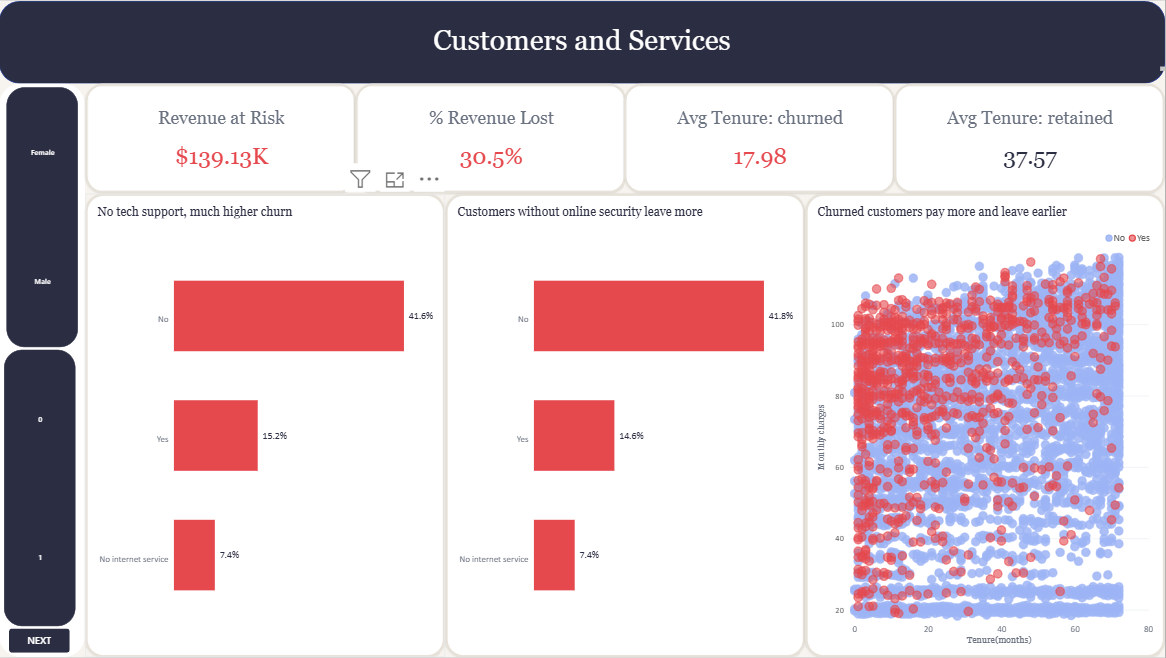

Layout of this report page (visuals, bound fields, positions):
{"tool":"powerbi","page":{"name":"Customers and Services","canvas":[1920,1080],"ordinal":2},"visuals":[{"type":"shape","box":[0,0,1920.4,135.8],"z":0},{"type":"textbox","title":"Customers and Services","box":[0,39.1,1920,76.2],"z":1000},{"type":"shape","box":[0,135.2,142,944.8],"z":2000},{"type":"slicer","fields":{"Values":["telco_churn.gender"]},"box":[12.3,142,117.3,428.1],"z":3000},{"type":"slicer","fields":{"Values":["telco_churn.SeniorCitizen"]},"box":[8.2,574.3,117.3,454.9],"z":4000},{"type":"actionButton","box":[16.5,1033.3,100,40],"z":5000},{"type":"cardVisual","fields":{"Data":["telco_churn.Revenue at Risk"]},"box":[142,135.8,446.7,181.1],"z":6000},{"type":"cardVisual","fields":{"Data":["telco_churn.% Revenue Lost"]},"box":[585.9,135.8,446.7,181.1],"z":7000},{"type":"cardVisual","fields":{"Data":["telco_churn.Avg Tenure"]},"box":[1029.8,135.8,446.7,181.1],"z":8000},{"type":"cardVisual","fields":{"Data":["telco_churn.Avg Tenure"]},"box":[1473.3,135.8,446.7,181.1],"z":9000},{"type":"clusteredBarChart","title":"Customers without online security leave more","fields":{"Category":["telco_churn.OnlineSecurity"],"Y":["telco_churn.Churn Rate"]},"box":[734.8,316.4,592.8,763.6],"z":10000},{"type":"clusteredBarChart","title":"No tech support, much higher churn","fields":{"Category":["telco_churn.TechSupport"],"Y":["telco_churn.Churn Rate"]},"box":[142,317,592.8,763.6],"z":11000},{"type":"scatterChart","title":"Churned customers pay more and leave earlier","fields":{"Series":["telco_churn.Churn"],"X":["telco_churn.tenure"],"Y":["telco_churn.MonthlyCharges"]},"box":[1327.6,317,592.8,763.6],"z":12000}]}

Visuals, with their boxes in screenshot pixels (x1, y1, x2, y2), scaled from the page's 1920x1080 canvas onto the 1166x658 screenshot:
shape: (0, 0, 1165, 83)
"Customers and Services" textbox: (0, 24, 1165, 70)
shape: (0, 82, 86, 657)
slicer - telco_churn.gender: (7, 87, 79, 347)
slicer - telco_churn.SeniorCitizen: (5, 350, 76, 627)
actionButton: (10, 630, 71, 654)
cardVisual - telco_churn.Revenue at Risk: (86, 83, 358, 193)
cardVisual - telco_churn.% Revenue Lost: (356, 83, 627, 193)
cardVisual - telco_churn.Avg Tenure: (625, 83, 897, 193)
cardVisual - telco_churn.Avg Tenure: (895, 83, 1165, 193)
"Customers without online security leave more" clusteredBarChart: (446, 193, 806, 657)
"No tech support, much higher churn" clusteredBarChart: (86, 193, 446, 657)
"Churned customers pay more and leave earlier" scatterChart: (806, 193, 1165, 657)
